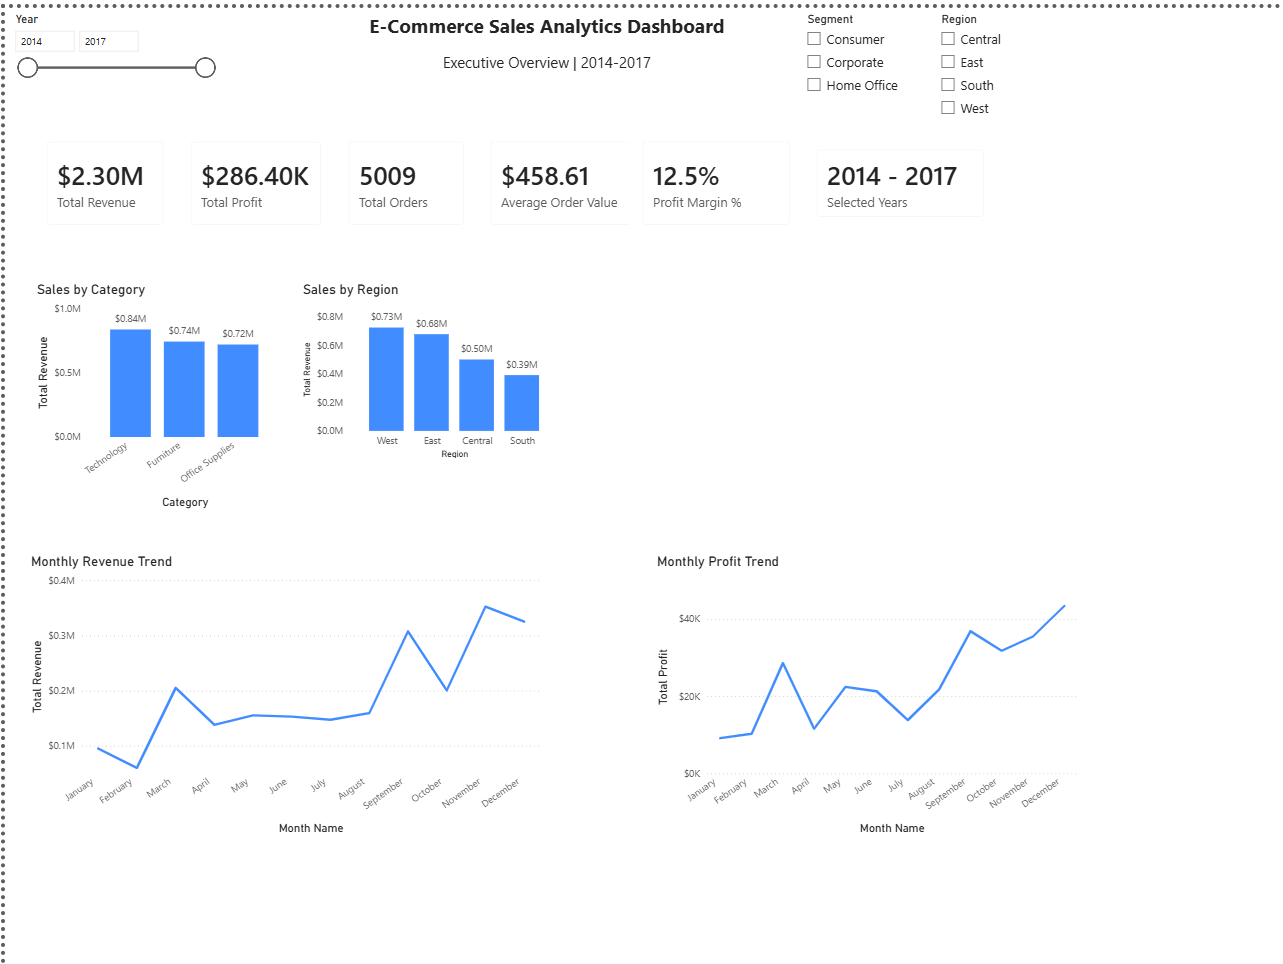

What the dashboard file says about the page in this screenshot:
{"tool":"powerbi","page":{"name":"Executive Dashboard","canvas":[1600,1200],"ordinal":0},"visuals":[{"type":"cardVisual","fields":{"Data":["Measure Table.Total Revenue"]},"box":[33.3,150,180.7,138.9],"z":0,"group":"g1"},{"type":"cardVisual","fields":{"Data":["Measure Table.Total Profit"]},"box":[214,150,198,138.9],"z":1000,"group":"g1"},{"type":"cardVisual","fields":{"Data":["Measure Table.Total Orders"]},"box":[411.9,150,178.3,138.9],"z":2000,"group":"g1"},{"type":"cardVisual","fields":{"Data":["Measure Table.Average Order Value"]},"box":[590.2,150,213.9,138.9],"z":3000,"group":"g1"},{"type":"lineChart","title":"Monthly Revenue Trend","fields":{"Category":["Sample - Superstore.Month Name"],"Y":["Measure Table.Total Revenue"]},"box":[26.7,682.3,645.9,355.6],"z":4000,"group":"g1"},{"type":"lineChart","title":"Monthly Profit Trend","fields":{"Category":["Sample - Superstore.Month Name"],"Y":["Measure Table.Total Profit"]},"box":[810.3,682.5,534.7,355.8],"z":5000,"group":"g1"},{"type":"clusteredColumnChart","title":"Sales by Category","fields":{"Y":["Measure Table.Total Revenue"],"Category":["Sample - Superstore.Category"]},"box":[33.3,341.5,316.4,288.3],"z":6000,"group":"g1"},{"type":"slicer","title":"Sales by Region","fields":{"Values":["Sample - Superstore.Segment"]},"box":[990,0,166.7,150],"z":7000},{"type":"clusteredColumnChart","title":"Sales by Region","fields":{"Category":["Sample - Superstore.Region"],"Y":["Measure Table.Total Revenue"]},"box":[367.7,341.5,329.5,225.1],"z":7000,"group":"g1"},{"type":"cardVisual","fields":{"Data":["Measure Table.Profit Margin %"]},"box":[778.8,150,218.4,138.9],"z":8000,"group":"g1"},{"type":"slicer","fields":{"Values":["Sample - Superstore.Region"]},"box":[1156.7,0,111.7,150],"z":9000},{"type":"textbox","box":[448.3,0,460,150],"z":9500},{"type":"slicer","fields":{"Values":["Sample - Superstore.Year"]},"box":[0,0,271.7,150],"z":10000},{"type":"group","id":"g1","title":"Group 1","box":[26.7,150,1318.3,888.3],"z":10010},{"type":"cardVisual","fields":{"Data":["Measure Table.Selected Years"]},"box":[996.7,160,243.3,118.3],"z":10011}]}

Visuals, with their boxes in screenshot pixels (x1, y1, x2, y2), scaled from the page's 1600x1200 canvas onto the 1283x964 screenshot:
cardVisual - Measure Table.Total Revenue: (left=27, top=120, right=172, bottom=232)
cardVisual - Measure Table.Total Profit: (left=172, top=120, right=330, bottom=232)
cardVisual - Measure Table.Total Orders: (left=330, top=120, right=473, bottom=232)
cardVisual - Measure Table.Average Order Value: (left=473, top=120, right=645, bottom=232)
"Monthly Revenue Trend" lineChart: (left=21, top=548, right=539, bottom=834)
"Monthly Profit Trend" lineChart: (left=650, top=548, right=1079, bottom=834)
"Sales by Category" clusteredColumnChart: (left=27, top=274, right=280, bottom=506)
"Sales by Region" slicer: (left=794, top=0, right=928, bottom=120)
"Sales by Region" clusteredColumnChart: (left=295, top=274, right=559, bottom=455)
cardVisual - Measure Table.Profit Margin %: (left=625, top=120, right=800, bottom=232)
slicer - Sample - Superstore.Region: (left=928, top=0, right=1017, bottom=120)
textbox: (left=359, top=0, right=728, bottom=120)
slicer - Sample - Superstore.Year: (left=0, top=0, right=218, bottom=120)
"Group 1" group: (left=21, top=120, right=1079, bottom=834)
cardVisual - Measure Table.Selected Years: (left=799, top=129, right=994, bottom=224)
